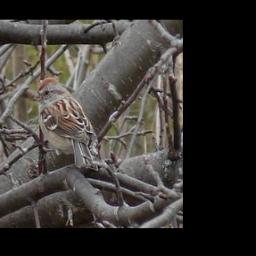Sparrow: (31, 77, 98, 172)
